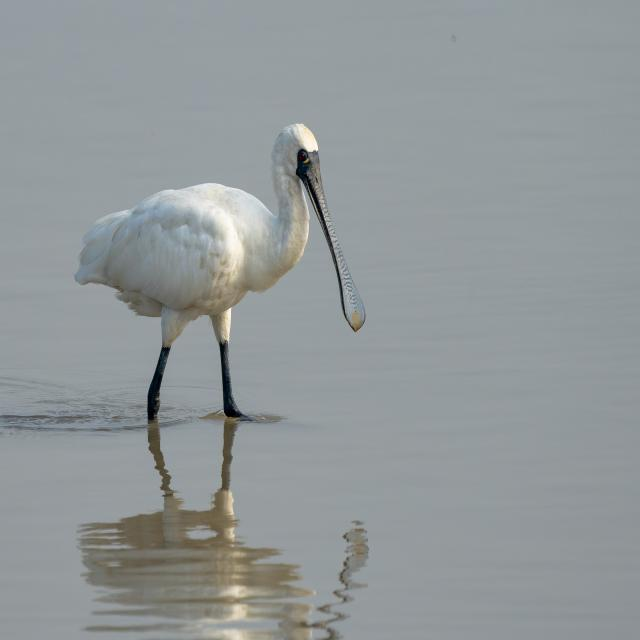Black-faced spoonbill: (76, 124, 365, 419)
